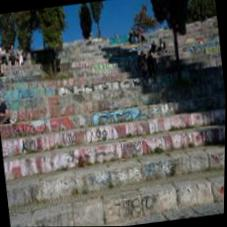Bench: (0, 91, 226, 227)
